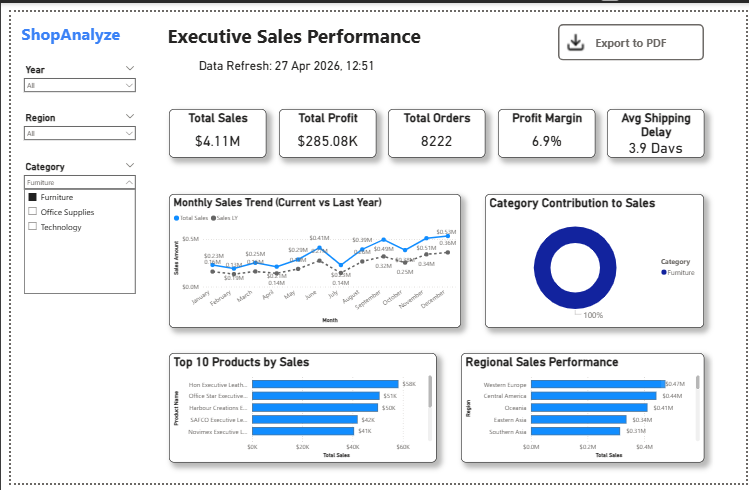

This screenshot's page, from the dashboard's own definition file:
{"tool":"powerbi","page":{"name":"Executive Overview","canvas":[1450,930],"ordinal":0},"visuals":[{"type":"slicer","fields":{"Values":["orders.Order Year"]},"box":[16,96,240,64],"z":0},{"type":"slicer","fields":{"Values":["orders.Region"]},"box":[16,192,240,64],"z":1000},{"type":"slicer","fields":{"Values":["orders.Category"]},"box":[16,288,240,64],"z":2000},{"type":"card","title":"Total Sales","fields":{"Values":["orders.Total Sales"]},"box":[312,192,192,96],"z":3000},{"type":"card","title":"Total Profit","fields":{"Values":["orders.Total Profit"]},"box":[528,192,192,96],"z":4000},{"type":"card","title":"Total Orders","fields":{"Values":["orders.Total Orders"]},"box":[744,192,192,96],"z":5000},{"type":"card","title":"Profit Margin","fields":{"Values":["orders.Profit Margin"]},"box":[960,192,192,96],"z":6000},{"type":"card","title":"Avg Shipping Delay","fields":{"Values":["orders.Avg Shipping Delay Display"]},"box":[1176,192,192,96],"z":7000},{"type":"lineChart","title":"Monthly Sales Trend (Current vs Last Year)","fields":{"Y":["orders.Total Sales","orders.Sales LY"],"Category":["Date Table.Month"]},"box":[312,360,576,264],"z":8000},{"type":"donutChart","title":"Category Contribution to Sales","fields":{"Category":["orders.Category"],"Y":["orders.Total Sales"]},"box":[936,360,432,264],"z":9000},{"type":"clusteredBarChart","title":"Top 10 Products by Sales","fields":{"Y":["orders.Total Sales"],"Category":["orders.Product Name"]},"box":[312,672,528,216],"z":10000},{"type":"clusteredBarChart","title":"Regional Sales Performance","fields":{"Category":["orders.Region"],"Y":["orders.Total Sales"]},"box":[888,672,480,216],"z":11000},{"type":"textbox","box":[16,16,240,64],"z":12000},{"type":"textbox","box":[304,16,608,64],"z":13000},{"type":"card","fields":{"Values":["Refresh Time.Last Refresh Time"]},"box":[304,80,480,48],"z":14000},{"type":"actionButton","box":[1080,24,288,72],"z":15000}]}

Visuals, with their boxes in screenshot pixels (x1, y1, x2, y2), scaled from the page's 1450x930 canvas onto the 749x490 screenshot:
slicer - orders.Order Year: {"x1": 8, "y1": 51, "x2": 132, "y2": 84}
slicer - orders.Region: {"x1": 8, "y1": 101, "x2": 132, "y2": 135}
slicer - orders.Category: {"x1": 8, "y1": 152, "x2": 132, "y2": 185}
"Total Sales" card: {"x1": 161, "y1": 101, "x2": 260, "y2": 152}
"Total Profit" card: {"x1": 273, "y1": 101, "x2": 372, "y2": 152}
"Total Orders" card: {"x1": 384, "y1": 101, "x2": 483, "y2": 152}
"Profit Margin" card: {"x1": 496, "y1": 101, "x2": 595, "y2": 152}
"Avg Shipping Delay" card: {"x1": 607, "y1": 101, "x2": 707, "y2": 152}
"Monthly Sales Trend (Current vs Last Year)" lineChart: {"x1": 161, "y1": 190, "x2": 459, "y2": 329}
"Category Contribution to Sales" donutChart: {"x1": 483, "y1": 190, "x2": 707, "y2": 329}
"Top 10 Products by Sales" clusteredBarChart: {"x1": 161, "y1": 354, "x2": 434, "y2": 468}
"Regional Sales Performance" clusteredBarChart: {"x1": 459, "y1": 354, "x2": 707, "y2": 468}
textbox: {"x1": 8, "y1": 8, "x2": 132, "y2": 42}
textbox: {"x1": 157, "y1": 8, "x2": 471, "y2": 42}
card - Refresh Time.Last Refresh Time: {"x1": 157, "y1": 42, "x2": 405, "y2": 67}
actionButton: {"x1": 558, "y1": 13, "x2": 707, "y2": 51}
